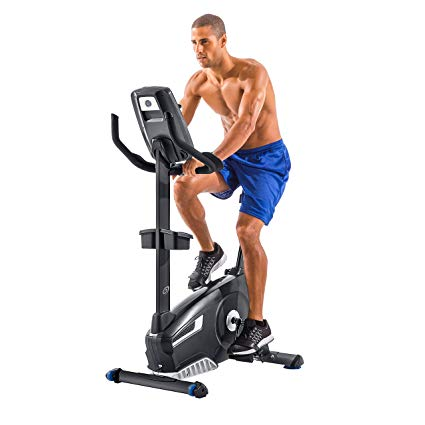gym_bike: (88, 88, 308, 381)
